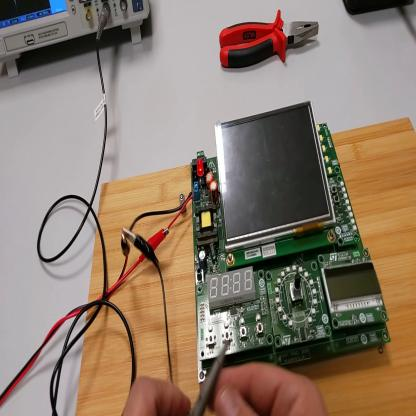hand: (210, 361, 329, 415), (122, 374, 192, 415)
low voltage board: (127, 114, 385, 382)
oscilloscope: (2, 2, 152, 79)
oscilloscope probe tip: (185, 337, 229, 416)
pliers: (220, 13, 318, 71)
welder station: (343, 1, 416, 16)
working area: (73, 117, 416, 415)
